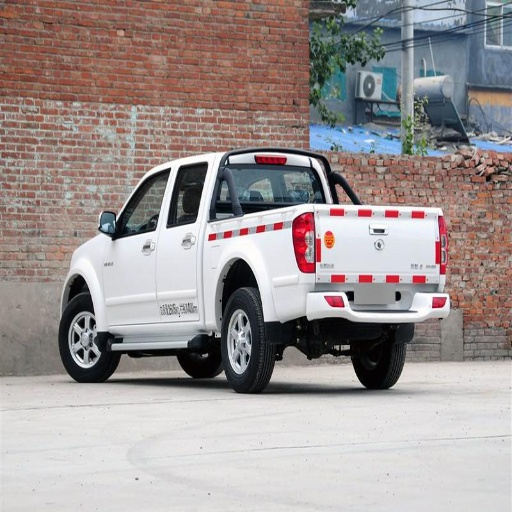back_bumper: (327, 294, 428, 324)
back_glass: (216, 163, 328, 212)
back_left_door: (157, 177, 198, 315)
trunk: (181, 207, 436, 324)
